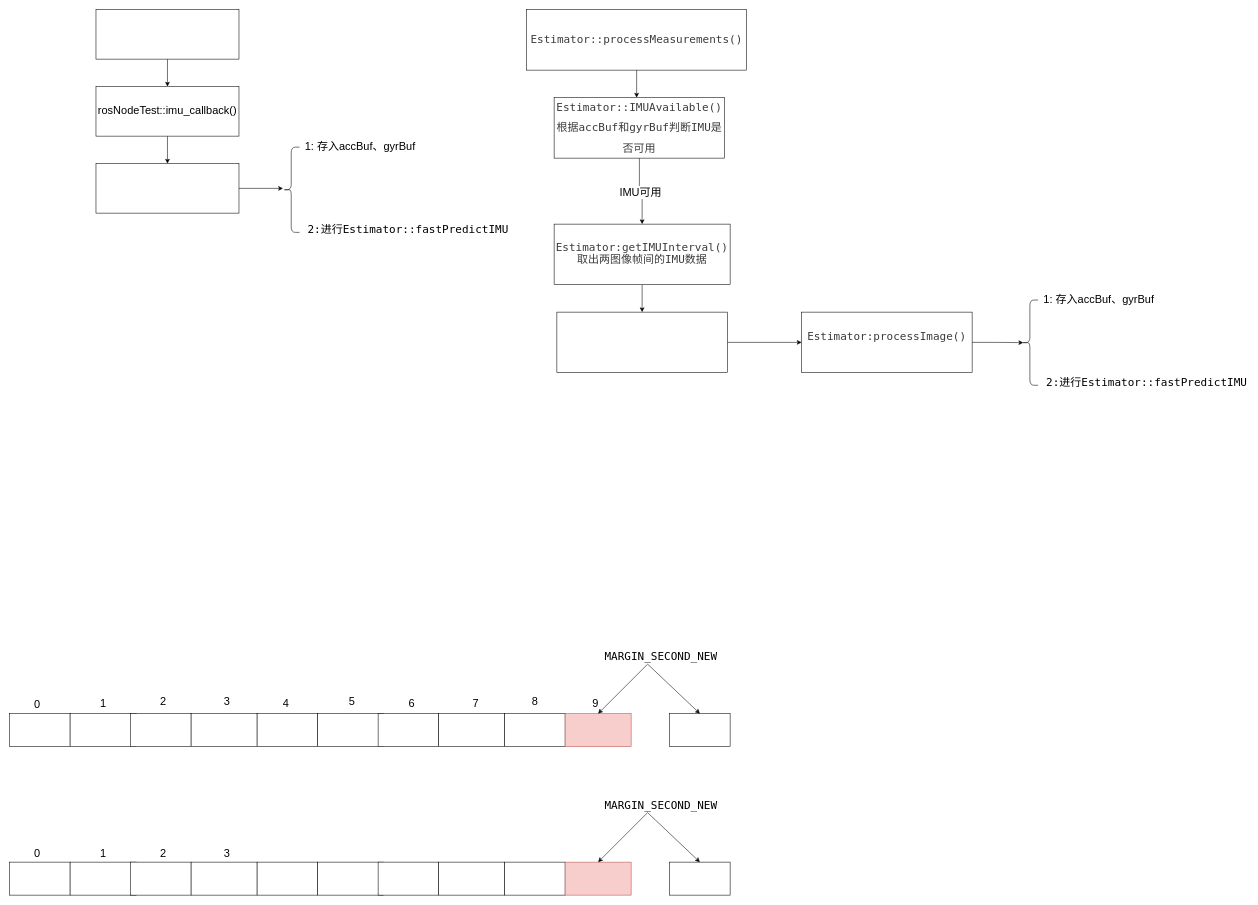
Image size: 1258x905. Some labels were removed from this diagram. Each missing label, with the centre of its shape:
"estimator::inputIMU()" goes at (167,188).
"Estimator:processIMU () 进行IMU预积分" goes at (641,342).
"IMU" goes at (167,34).
